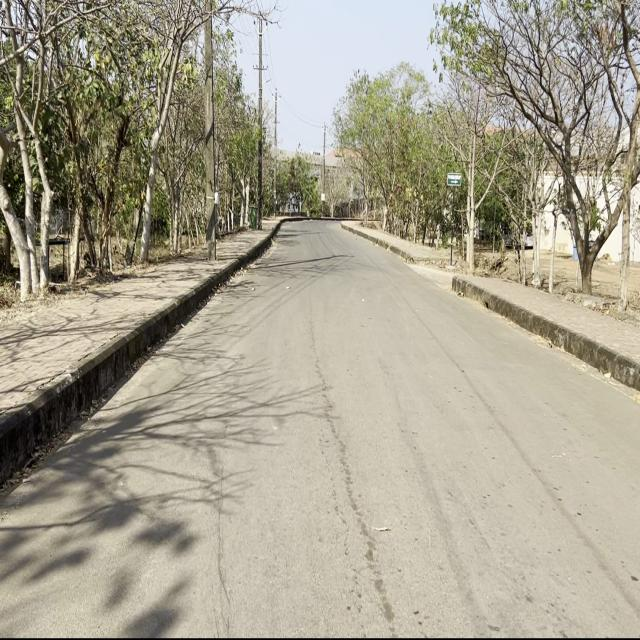Road: (3, 219, 637, 635)
